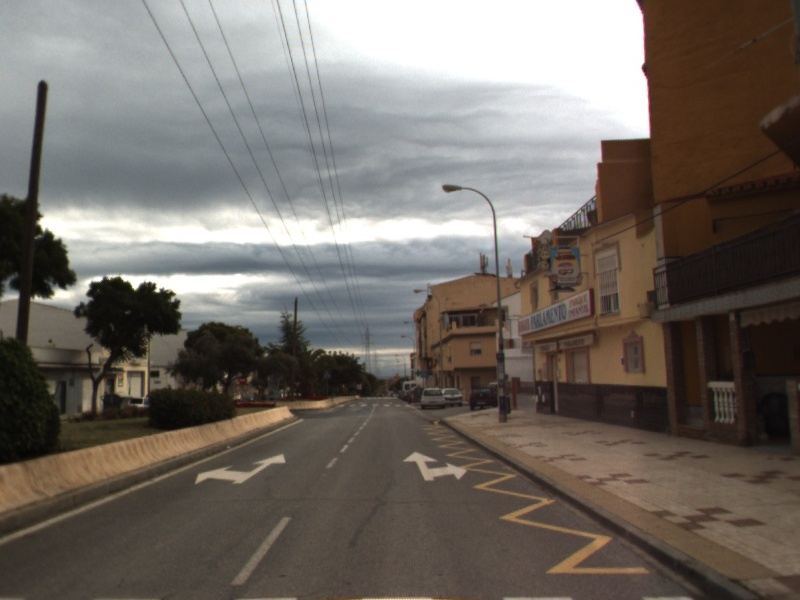STRAIGHT_LEFT: (193, 451, 288, 486)
STRAIGHT_RIGHT: (401, 449, 470, 483)
